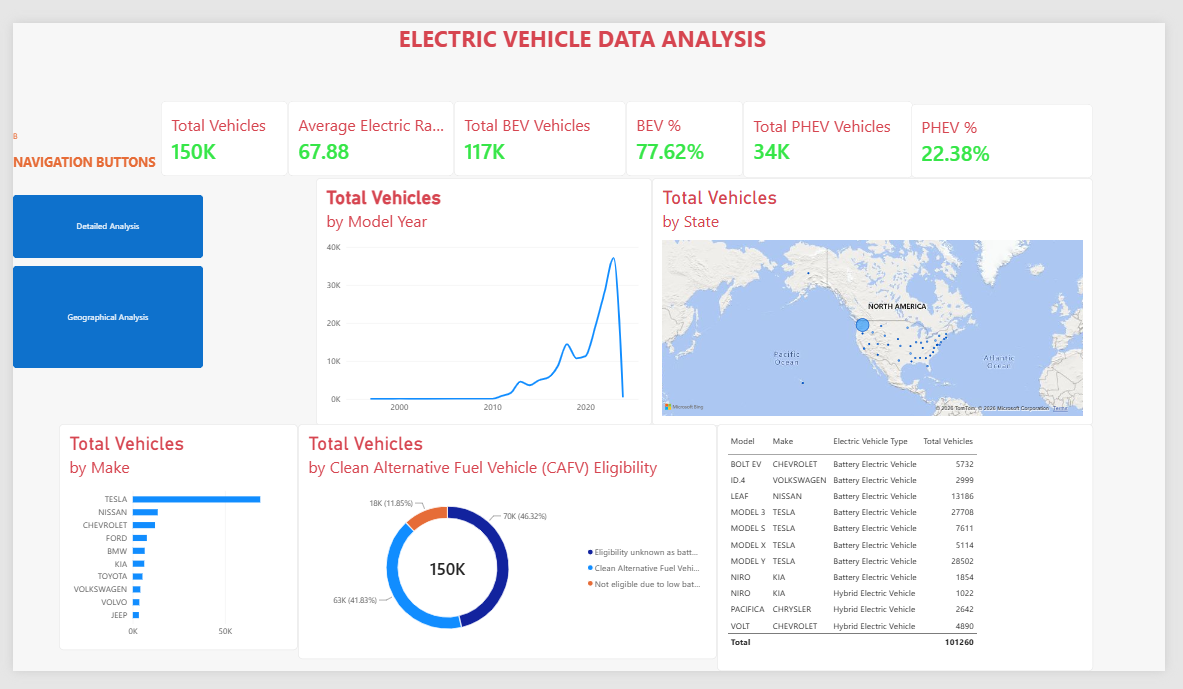

What the dashboard file says about the page in this screenshot:
{"tool":"powerbi","page":{"name":"EV Dashboard Overview","canvas":[1920,1080],"ordinal":0},"visuals":[{"type":"cardVisual","fields":{"Data":["Electric_Vehicle_Population_Dat.Total Vehicles","Electric_Vehicle_Population_Dat.Total Vehicles"]},"box":[246.7,130,211.7,125],"z":0},{"type":"cardVisual","fields":{"Data":["Electric_Vehicle_Population_Dat.Average Electric Range"]},"box":[458.3,130,276.7,125],"z":1000},{"type":"cardVisual","fields":{"Data":["Electric_Vehicle_Population_Dat.Total BEV Vehicles"]},"box":[735,130,286.7,125],"z":2000},{"type":"cardVisual","fields":{"Data":["Electric_Vehicle_Population_Dat.BEV %"]},"box":[1021.7,130,195,125],"z":3000},{"type":"cardVisual","fields":{"Data":["Electric_Vehicle_Population_Dat.Total PHEV Vehicles"]},"box":[1216.7,130,283.3,128.3],"z":4000},{"type":"cardVisual","fields":{"Data":["Electric_Vehicle_Population_Dat.PHEV %"]},"box":[1496.7,135,303.3,123.3],"z":5000},{"type":"lineChart","fields":{"Category":["Electric_Vehicle_Population_Dat.Model Year"],"Y":["Electric_Vehicle_Population_Dat.Total Vehicles"]},"box":[505,258.3,560,413.3],"z":6000},{"type":"map","fields":{"Category":["Electric_Vehicle_Population_Dat.State"],"Size":["Electric_Vehicle_Population_Dat.Total Vehicles"]},"box":[1065,258.3,735,413.3],"z":7000},{"type":"clusteredBarChart","fields":{"Category":["Electric_Vehicle_Population_Dat.Make"],"Y":["Electric_Vehicle_Population_Dat.Total Vehicles"]},"box":[76.7,668.3,398.3,376.7],"z":8000},{"type":"donutChart","fields":{"Category":["Electric_Vehicle_Population_Dat.Clean Alternative Fuel Vehicle (CAFV) Eligibility"],"Y":["Electric_Vehicle_Population_Dat.Total Vehicles"]},"box":[475,668.3,698.3,391.7],"z":9000},{"type":"tableEx","fields":{"Values":["Electric_Vehicle_Population_Dat.Model","Electric_Vehicle_Population_Dat.Make","Electric_Vehicle_Population_Dat.Electric Vehicle Type","Electric_Vehicle_Population_Dat.Total Vehicles"]},"box":[1173.3,668.3,626.7,411.7],"z":10000},{"type":"actionButton","box":[0,286.7,316.7,105],"z":11000},{"type":"actionButton","box":[0,405,316.7,170],"z":12000},{"type":"textbox","box":[633.3,0,631.7,130],"z":13000},{"type":"textbox","box":[247,575,212,150],"z":13001},{"type":"textbox","box":[0,178.3,246.7,76.7],"z":13002}]}

Visuals, with their boxes on the page's 1920x1080 design canvas (x1, y1, x2, y2). These are canvas units, not pixel positions in the 1183x689 screenshot, which may show the page scaled, cropped or inside an application window:
cardVisual - Electric_Vehicle_Population_Dat.Total Vehicles x Electric_Vehicle_Population_Dat.Total Vehicles: locate(247, 130, 458, 255)
cardVisual - Electric_Vehicle_Population_Dat.Average Electric Range: locate(458, 130, 735, 255)
cardVisual - Electric_Vehicle_Population_Dat.Total BEV Vehicles: locate(735, 130, 1022, 255)
cardVisual - Electric_Vehicle_Population_Dat.BEV %: locate(1022, 130, 1217, 255)
cardVisual - Electric_Vehicle_Population_Dat.Total PHEV Vehicles: locate(1217, 130, 1500, 258)
cardVisual - Electric_Vehicle_Population_Dat.PHEV %: locate(1497, 135, 1800, 258)
lineChart - Electric_Vehicle_Population_Dat.Model Year x Electric_Vehicle_Population_Dat.Total Vehicles: locate(505, 258, 1065, 672)
map - Electric_Vehicle_Population_Dat.State x Electric_Vehicle_Population_Dat.Total Vehicles: locate(1065, 258, 1800, 672)
clusteredBarChart - Electric_Vehicle_Population_Dat.Make x Electric_Vehicle_Population_Dat.Total Vehicles: locate(77, 668, 475, 1045)
donutChart - Electric_Vehicle_Population_Dat.Clean Alternative Fuel Vehicle (CAFV) Eligibility x Electric_Vehicle_Population_Dat.Total Vehicles: locate(475, 668, 1173, 1060)
tableEx - Electric_Vehicle_Population_Dat.Model x Electric_Vehicle_Population_Dat.Make: locate(1173, 668, 1800, 1080)
actionButton: locate(0, 287, 317, 392)
actionButton: locate(0, 405, 317, 575)
textbox: locate(633, 0, 1265, 130)
textbox: locate(247, 575, 459, 725)
textbox: locate(0, 178, 247, 255)
